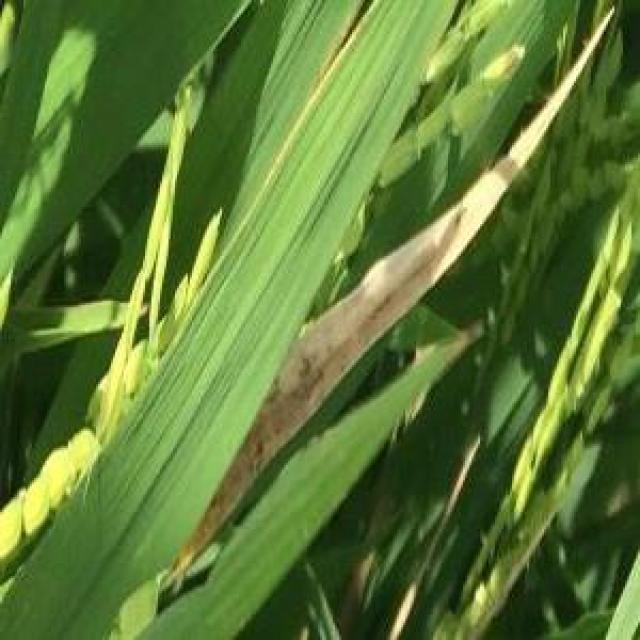Bacterial_Blight: (168, 6, 616, 575)
